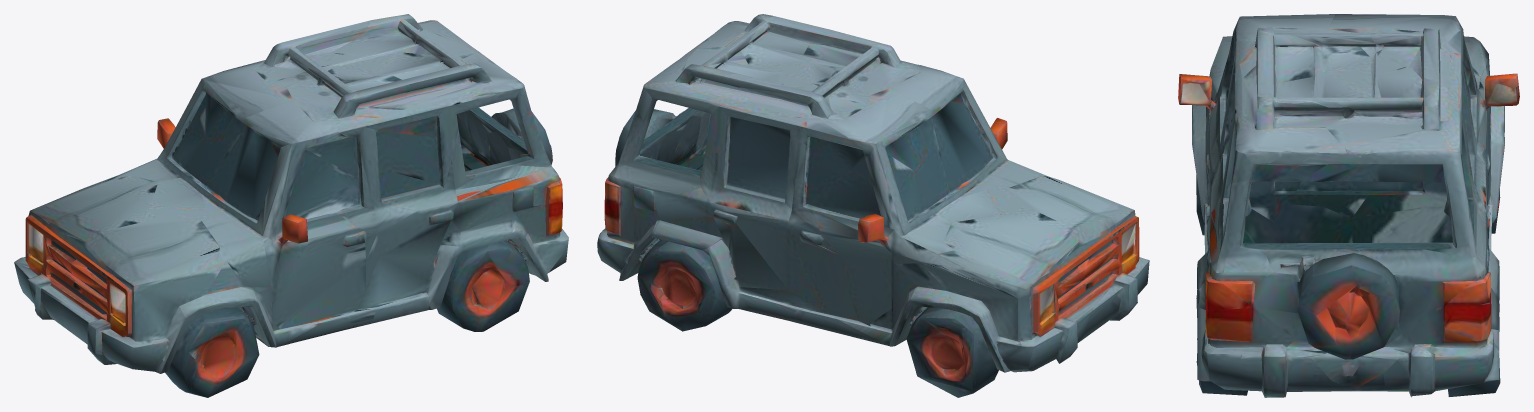
Rendered from suv.glb.
The picture shows the model from 3 angles, left to right: view 1: azimuth 30°, elevation 25°; view 2: azimuth 150°, elevation 25°; view 3: azimuth 270°, elevation 25°; orthographic projection. The views are drawn at different scales.
Bounding box in the file's own units: 1.9 × 0.9487 × 0.9818.
1 material, 1 textured.
